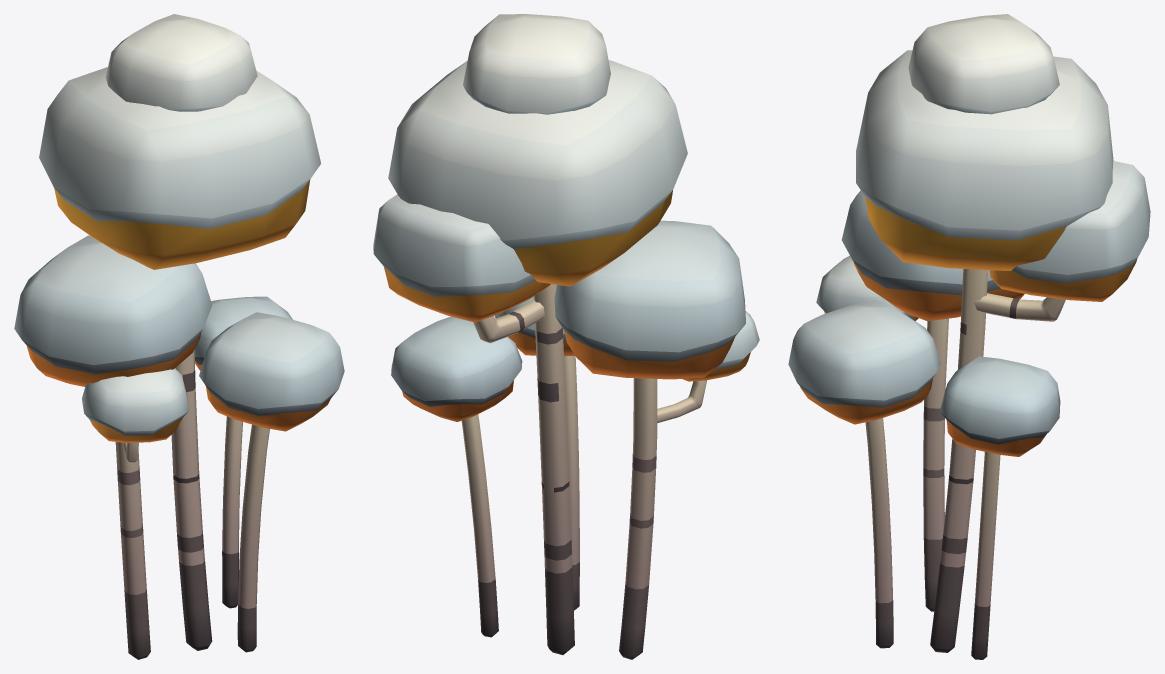
The model's file is birch_tree_col2_07_snow.fbx.
The picture shows the model from 3 angles, left to right: view 1: azimuth 30°, elevation 25°; view 2: azimuth 150°, elevation 25°; view 3: azimuth 270°, elevation 25°; orthographic projection. The views are drawn at different scales.
Visible parts, largest first — view 1: birch_tree_col2_07_snow; view 2: birch_tree_col2_07_snow; view 3: birch_tree_col2_07_snow.
Part boxes in pixels (box(x1,y1,x2,y2)): birch_tree_col2_07_snow: box(14, 14, 344, 659); birch_tree_col2_07_snow: box(373, 14, 759, 659); birch_tree_col2_07_snow: box(788, 14, 1150, 659).
Size of the model in its own units: 345 by 678 by 358.
1 material, 1 textured.
